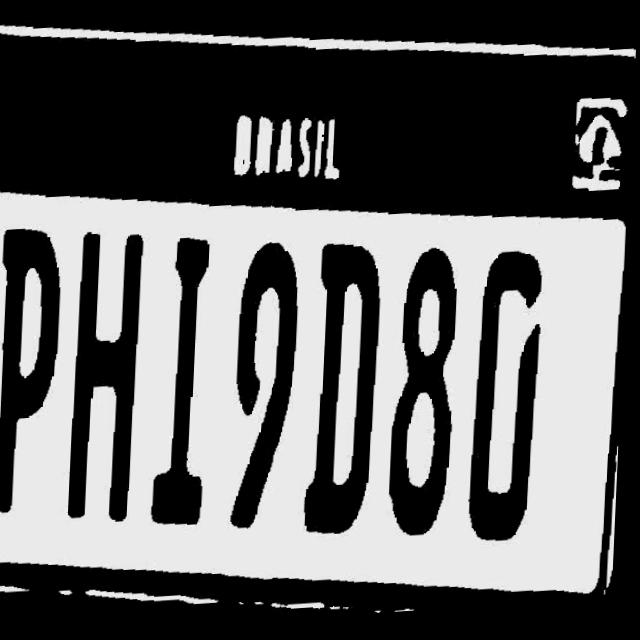0: (476, 248, 556, 573)
8: (387, 247, 472, 565)
9: (222, 232, 322, 568)
d: (303, 234, 395, 554)
h: (64, 214, 161, 562)
i: (155, 227, 246, 572)
p: (0, 211, 77, 563)
